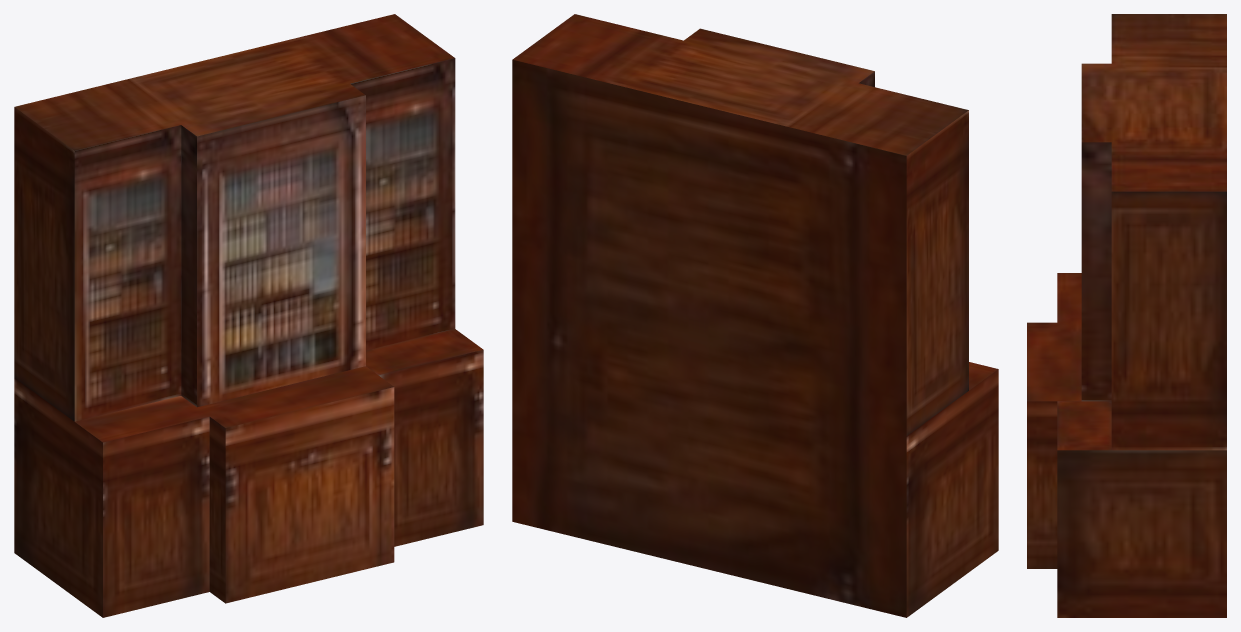
The model's file is Bookcase.gltf.
3 renders of one model, left to right at view 1: azimuth 30°, elevation 25°; view 2: azimuth 150°, elevation 25°; view 3: azimuth 270°, elevation 25°, orthographic. The views are drawn at different scales.
Visible parts, largest first — view 1: Bookcase_01; view 2: Bookcase_01; view 3: Bookcase_01.
Part boxes in pixels (x1,y1,x2,y2): Bookcase_01: (14,14,483,617); Bookcase_01: (512,14,998,617); Bookcase_01: (1027,14,1226,617).
Size of the model in its own units: 1.65 by 1.85 by 0.7841.
Materials: 1 (1 with a texture image).
